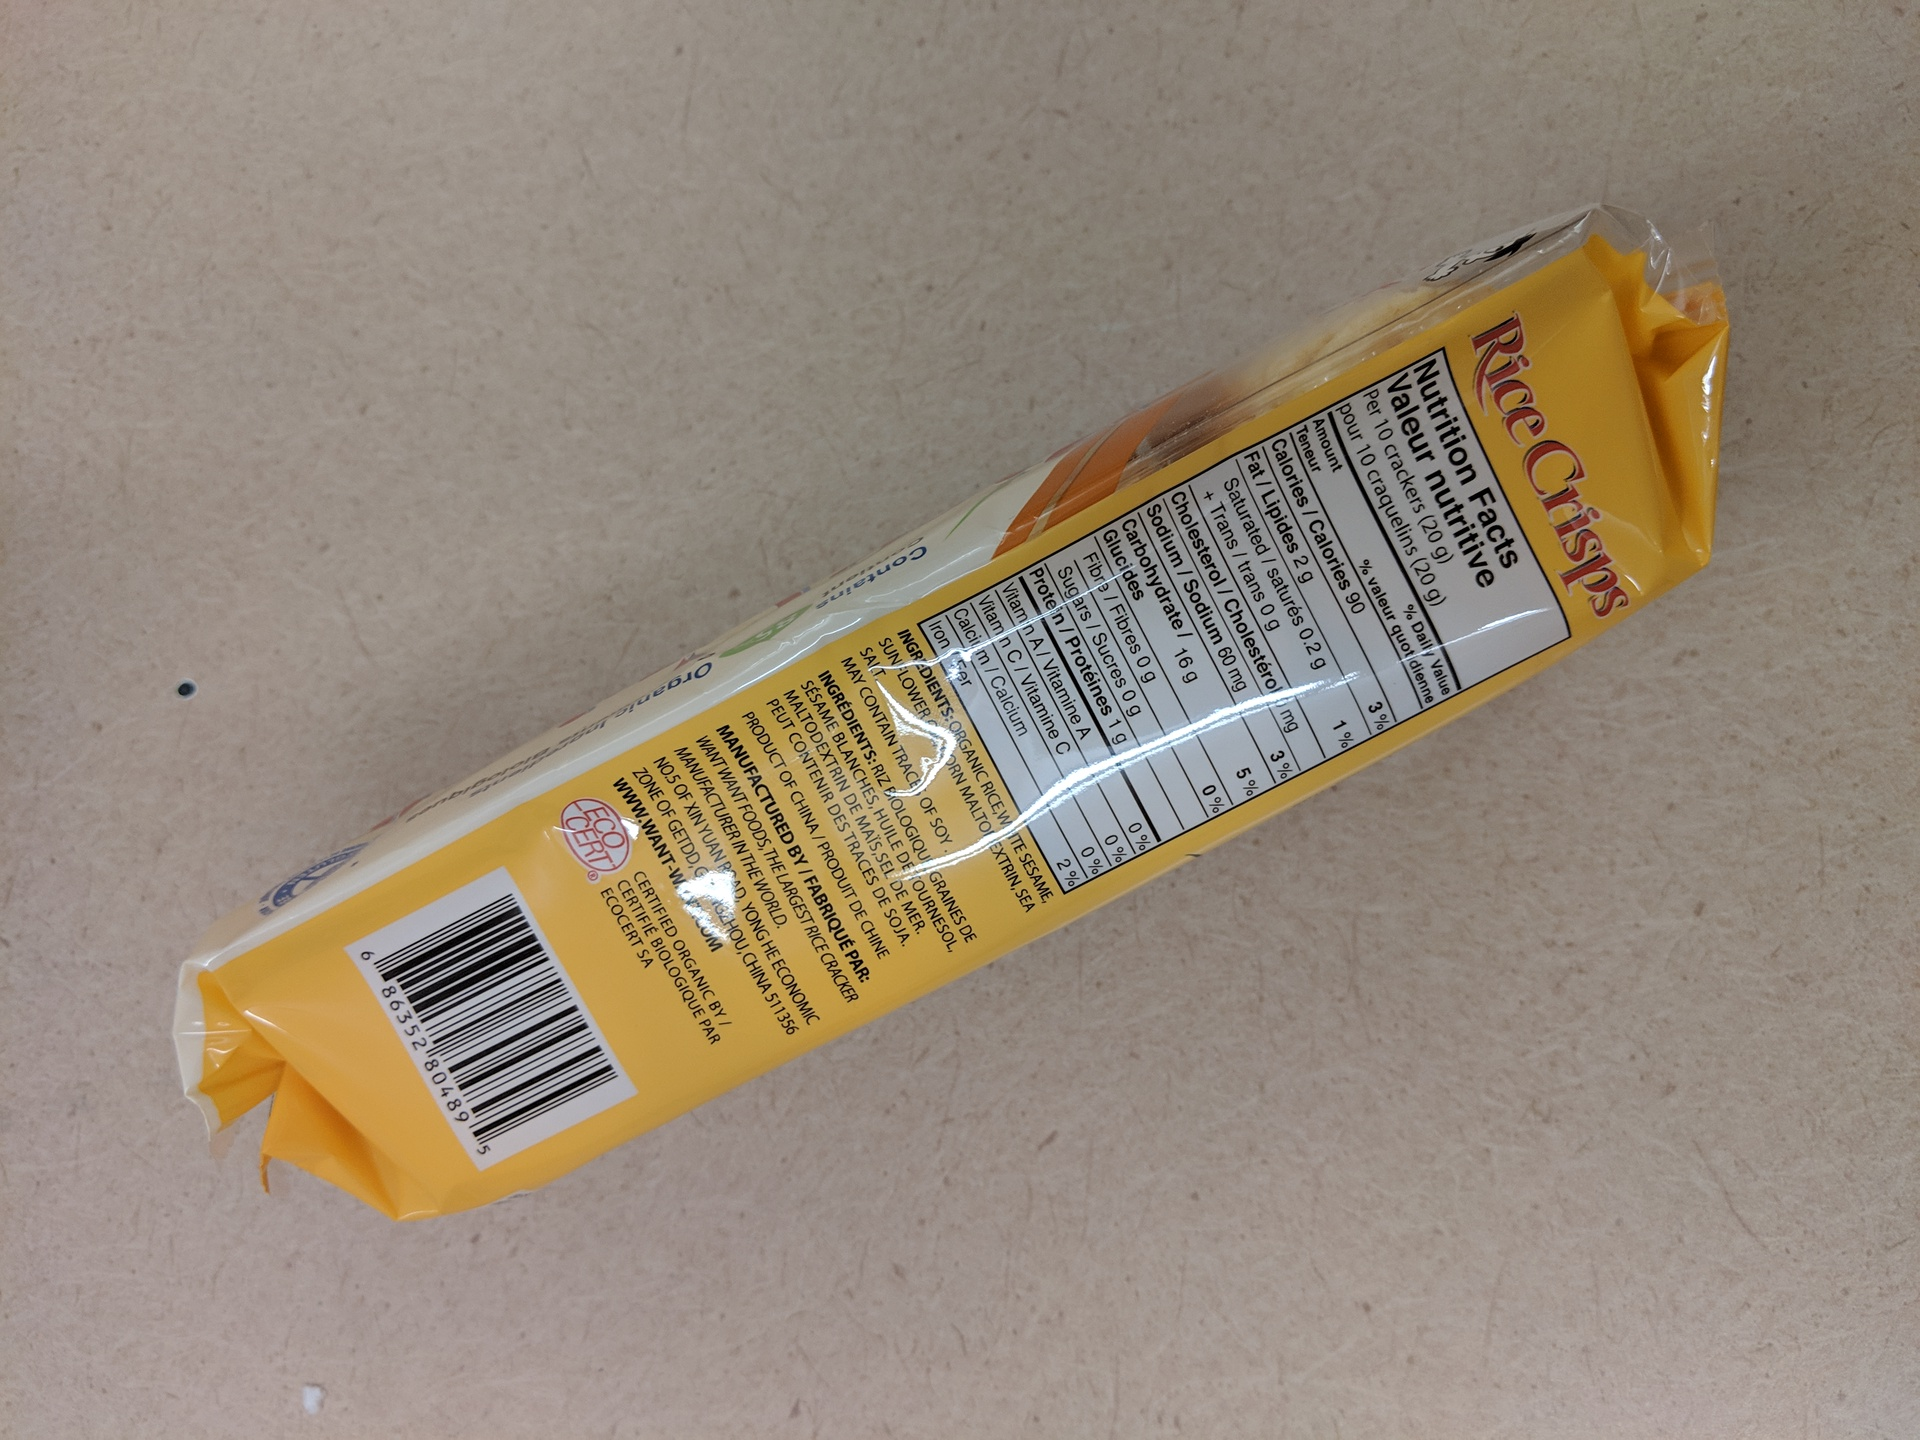hot_kid_rice_crisps_sesame: (167, 191, 1739, 1228)
